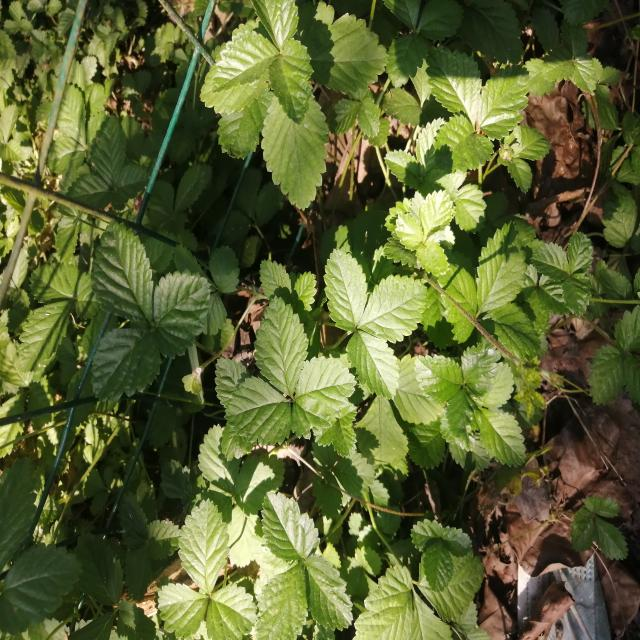Mock_strawberry: (209, 0, 370, 207), (62, 233, 204, 392), (240, 319, 373, 457), (160, 505, 278, 636), (255, 491, 356, 635), (325, 244, 424, 383)
